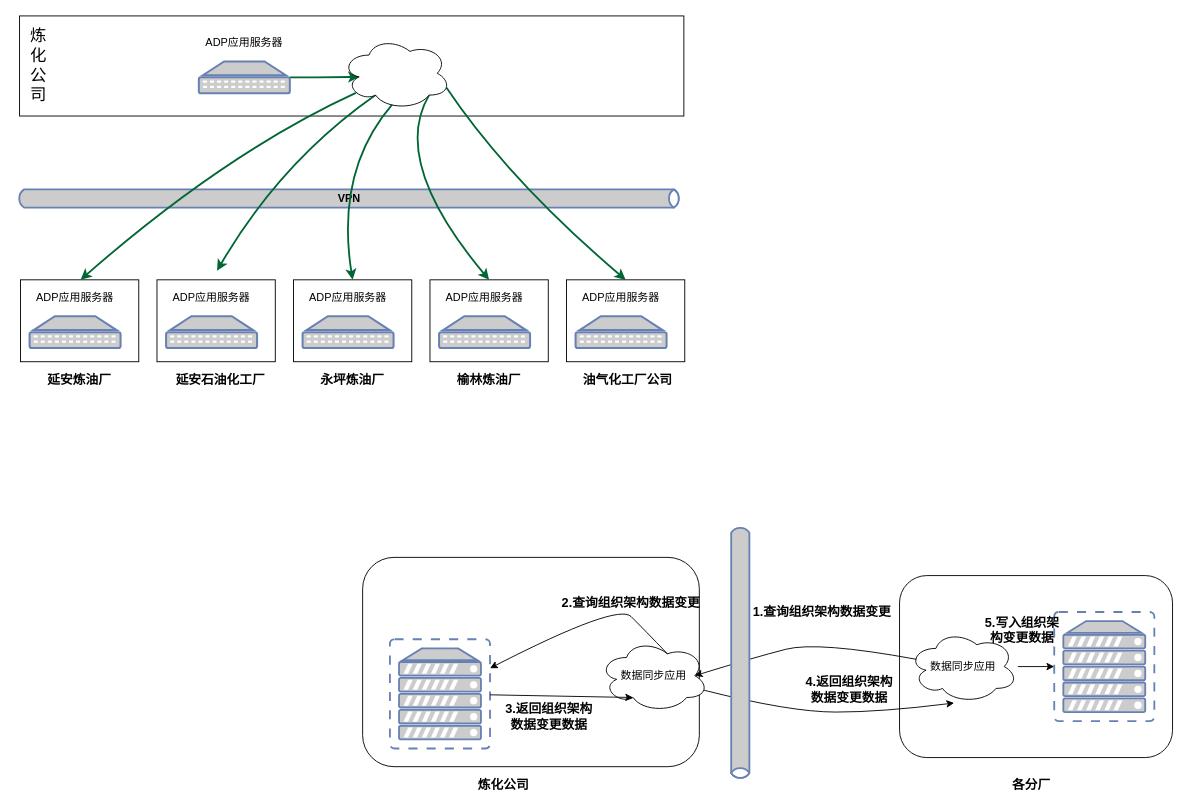
Image size: 1188x810. Some labels were removed from this diagram. The box of each missing label's shape, as (x1, y1, x2, y2) in pixels:
V P N: (725, 524, 754, 781)
数据同步器: (341, 36, 451, 110)
